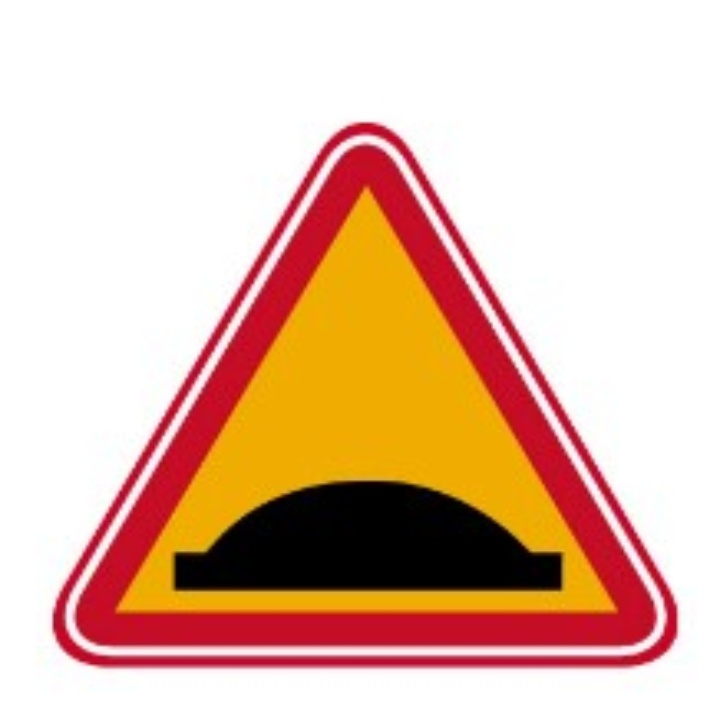bump: (47, 123, 676, 668)
